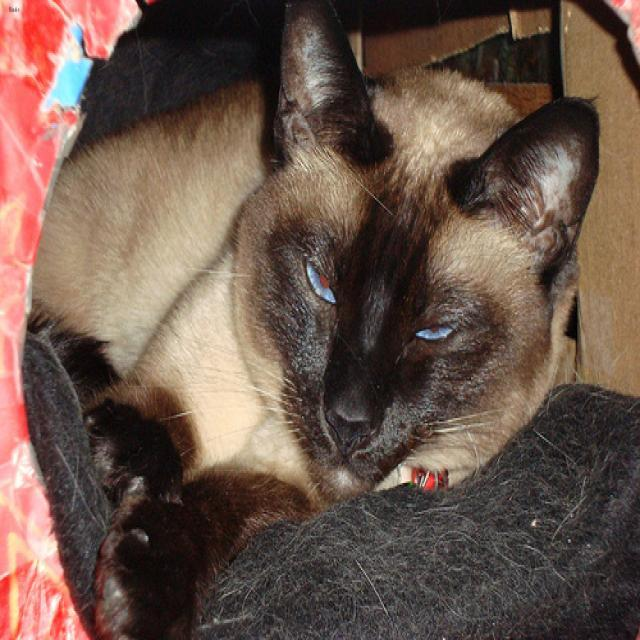Siamese: (233, 0, 596, 502)
